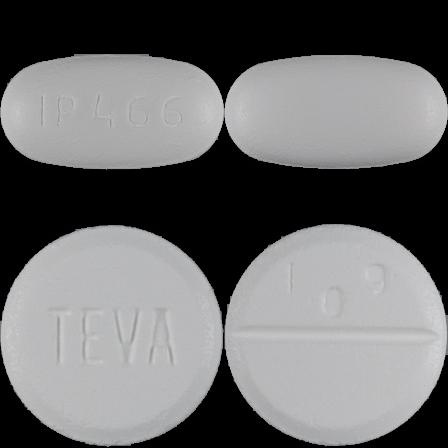54868-0133: (0, 0, 224, 224)
